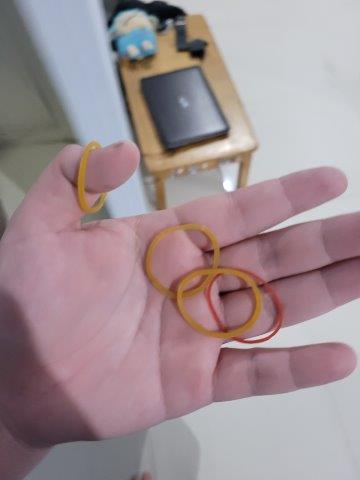karet: (143, 222, 222, 300), (175, 266, 261, 337), (208, 268, 285, 346), (76, 141, 114, 216)
